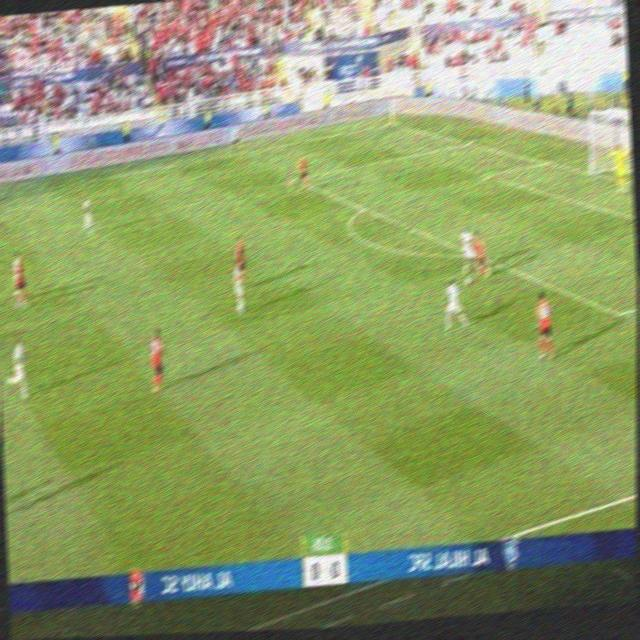bigarea_bottom_inner: (609, 299, 632, 326)
bigarea_top_inner: (286, 170, 303, 187)
bigarea_top_outter: (460, 134, 476, 150)
bottom_arc_area_intersection: (459, 239, 490, 268)
corner: (384, 116, 402, 130)
smallarea_top_inner: (480, 167, 497, 183)
smallarea_top_outter: (537, 151, 553, 170)
top_arc_area_intersection: (355, 198, 373, 217)
